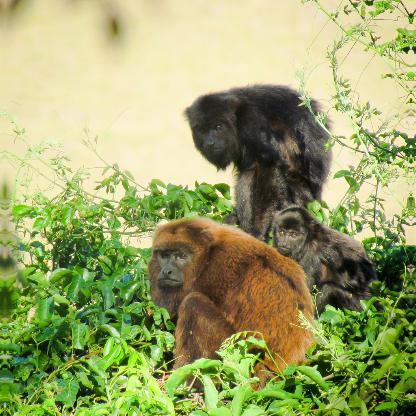Monkey: (142, 214, 330, 382)
